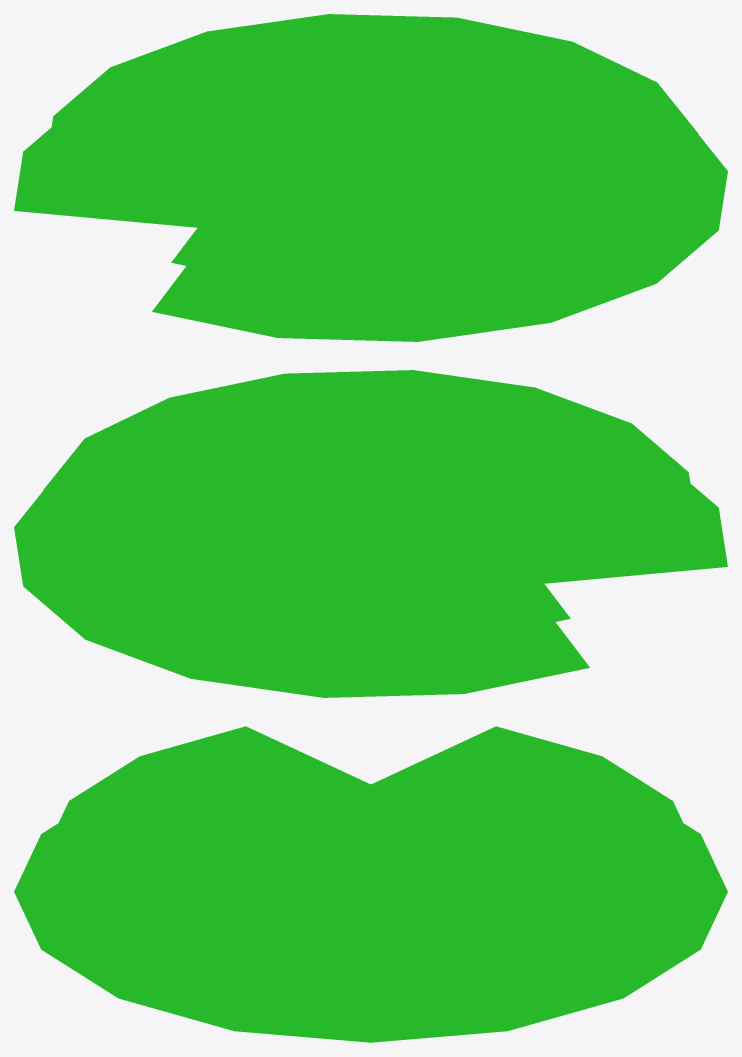
File: Lillypad.fbx
3 views of the same model, one above another, from view 1: azimuth 30°, elevation 25°; view 2: azimuth 150°, elevation 25°; view 3: azimuth 270°, elevation 25° (orthographic).
Visible parts, largest first — view 1: Lillypad; view 2: Lillypad; view 3: Lillypad.
Boxes of the visible parts, x1=… form: Lillypad: x1=14, y1=14, x2=727, y2=341; Lillypad: x1=14, y1=370, x2=727, y2=697; Lillypad: x1=14, y1=726, x2=727, y2=1042.
Size of the model in its own units: 50.09 by 3.08 by 52.07.
